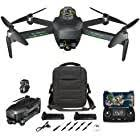drone: (0, 0, 140, 64)
